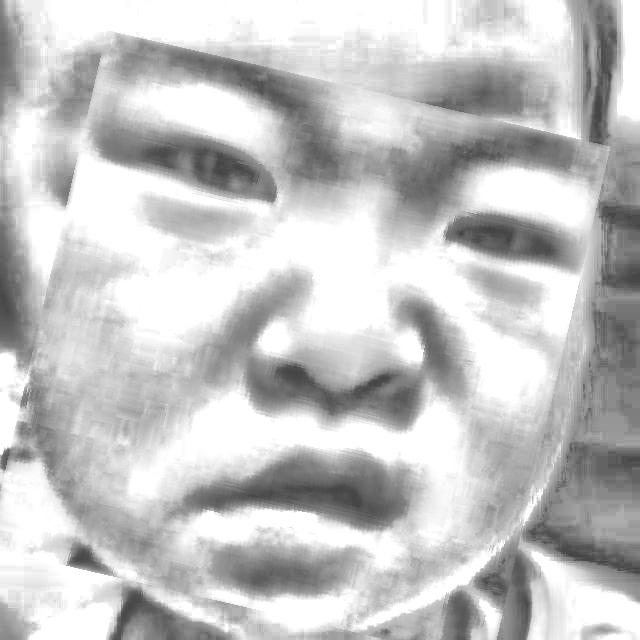angry: (14, 55, 584, 638)
